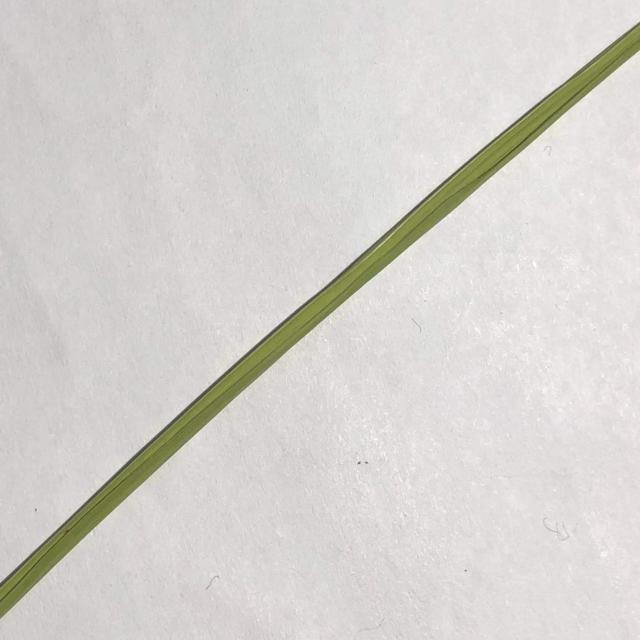Rice_Healthy: (0, 22, 640, 618)
